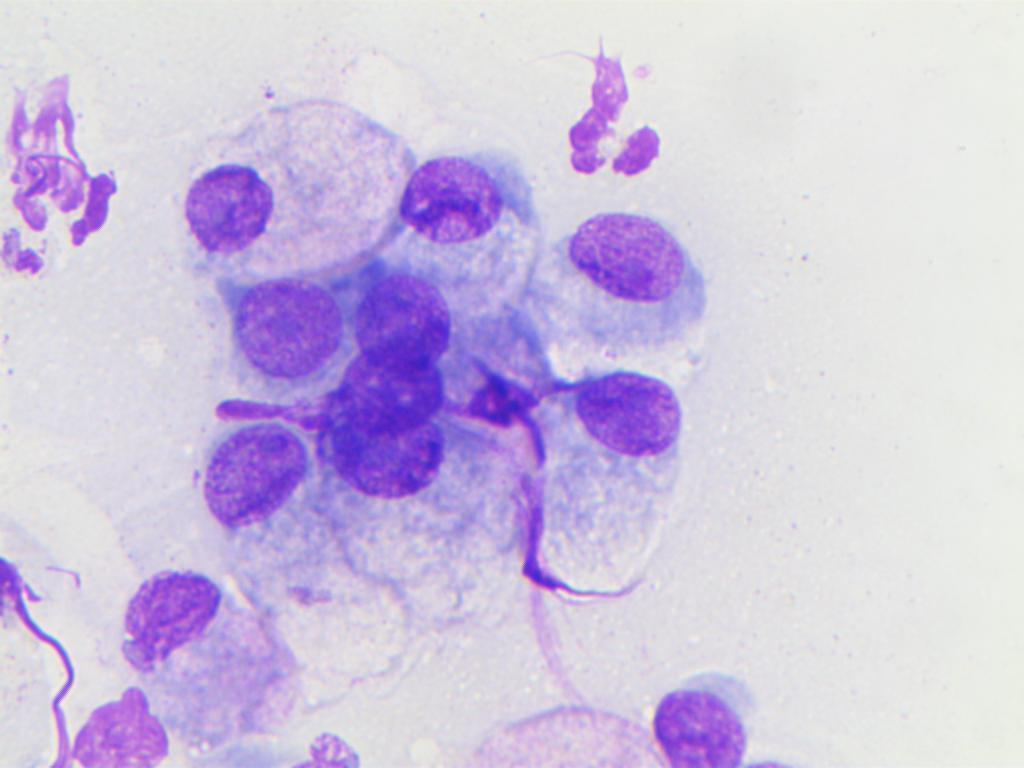artifact: (0, 62, 126, 280), (566, 34, 668, 186)
epithelial: (300, 385, 454, 505), (346, 270, 470, 393), (294, 347, 480, 424), (211, 274, 347, 378), (68, 682, 189, 768)
goblet_cell: (181, 100, 376, 274), (453, 665, 771, 767), (508, 206, 705, 358), (179, 413, 361, 542), (378, 145, 542, 284), (527, 362, 698, 473), (103, 568, 254, 686)
